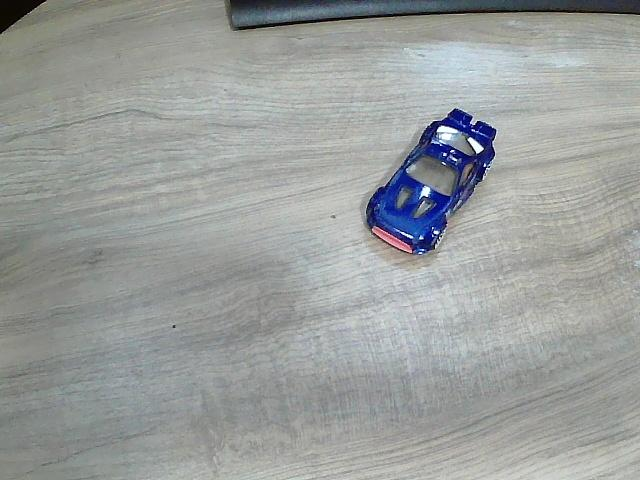Carro: (366, 109, 496, 257)
